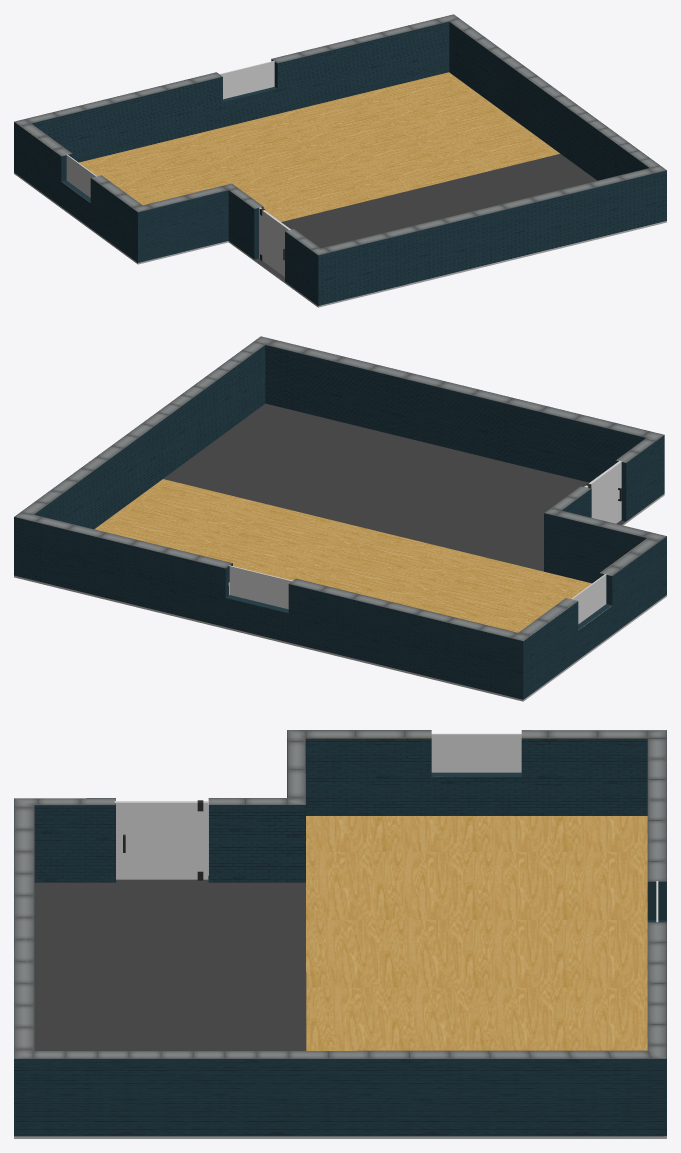
The model's file is Building.fbx.
3 views of the same model, one above another, from view 1: azimuth 30°, elevation 25°; view 2: azimuth 150°, elevation 25°; view 3: azimuth 270°, elevation 25° (orthographic). The views are drawn at different scales.
Parts seen in each view (by area): view 1: Building; view 2: Building; view 3: Building.
Boxes of the visible parts, x1,y1,x2,y2 form: Building: (14,14,666,307); Building: (14,336,666,701); Building: (14,730,666,1138).
Bounding box in the file's own units: 3963 × 452 × 3326.
3 materials, 1 textured.
